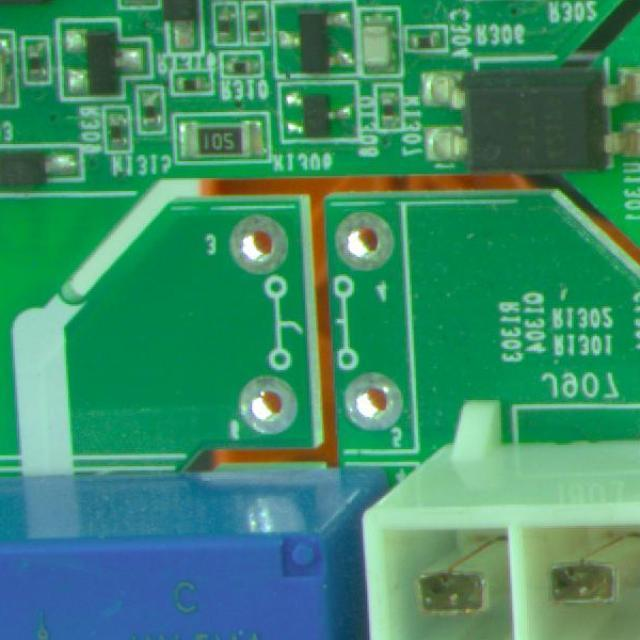Insufficient solder: (337, 367, 413, 440), (333, 202, 399, 284), (234, 376, 316, 436), (226, 208, 296, 278)
